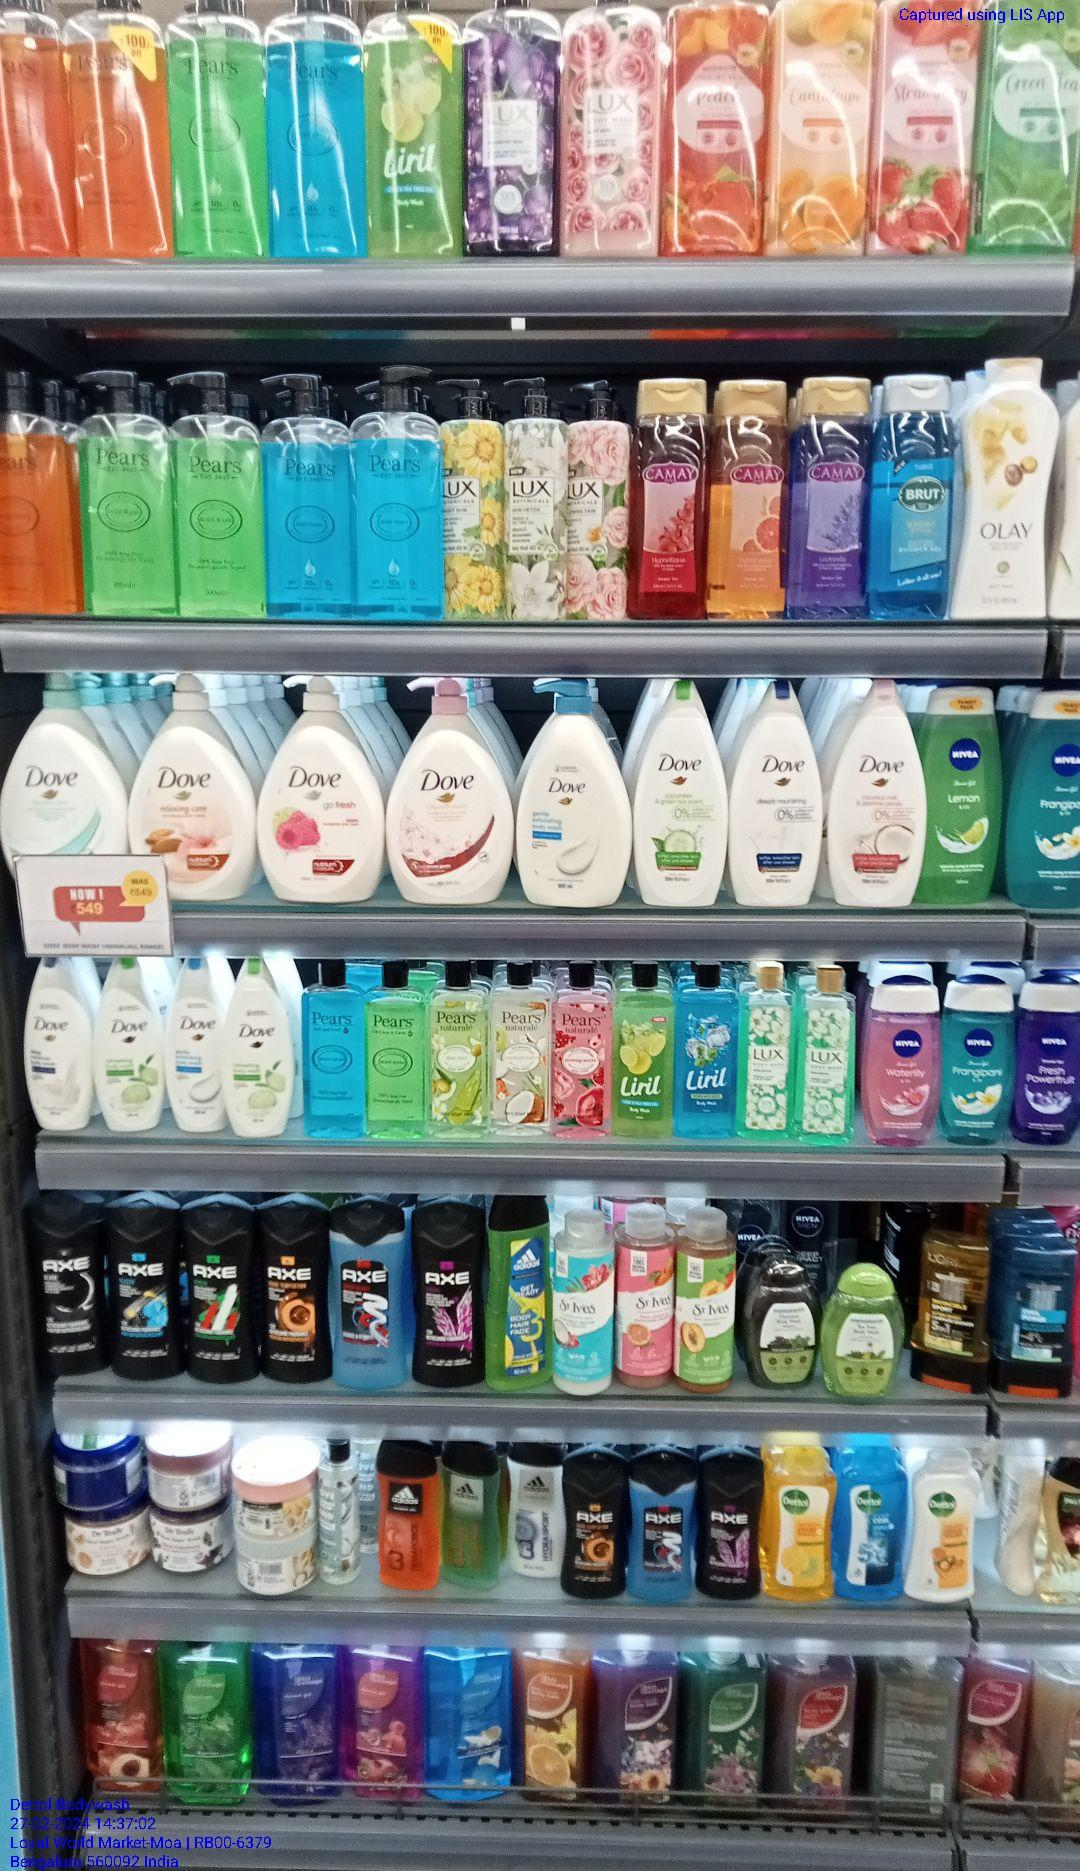Dettol_Bodywash_Cool: (837, 1442, 900, 1605)
Dettol_Bodywash_Refresh: (769, 1446, 831, 1609)
Dettol_Nourish_Body_Wash_250ML: (910, 1451, 981, 1604)
Dove_Deep_Moisture_Body_Wash_250ML: (22, 946, 91, 1130)
Dove_Gentle_Exfoliating_Body_Wash_250ML: (168, 948, 222, 1136)
Dove_Refreshing_Body_Wash_250ML: (228, 959, 291, 1137), (102, 961, 165, 1136)
Liril_Cooling_Mint_Body_Wash_250ML: (679, 961, 738, 1142)
Liril_Lime_and_Tea_Tree_Oil_Body_Wash_250ML: (615, 961, 671, 1140)
Lux_Body_Wash_Skin_Detox_Freesia_Scent_and_Alove_Vera_245ML: (798, 965, 856, 1149), (743, 961, 796, 1149)
Nivea_Shower_Gel_Frangipani_and_Oil_250ML: (1013, 686, 1080, 909), (944, 971, 1014, 1146)
Nivea_Shower_Gel_Fresh_Powerfruit_250ML: (1021, 973, 1080, 1146)
Nivea_Shower_Gel_Lemon_and_Oil_250ML: (924, 678, 1000, 909)
Nivea_Shower_Gel_Waterlily_and_Oil_250ML: (869, 970, 933, 1149)
Pears_Naturale_Aloe_Vera_Body_Wash_250ML: (427, 959, 490, 1140)
Pears_Pure_Glycerin_and_Lemon_Flower_Extracts_Body_Wash_250ML: (369, 965, 428, 1142)
Pears_Pure_Glycerin_and_Mint_Extracts_Body_Wash_250ML: (306, 964, 366, 1139)
